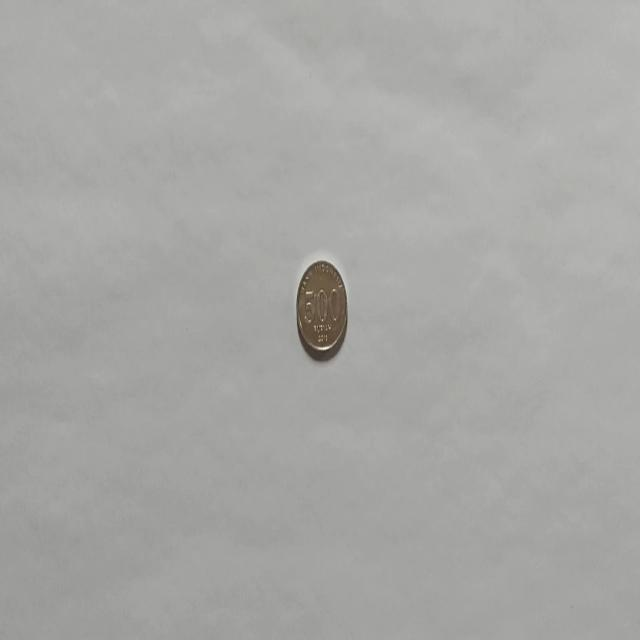lima ratus rupiah: (295, 258, 348, 360)
